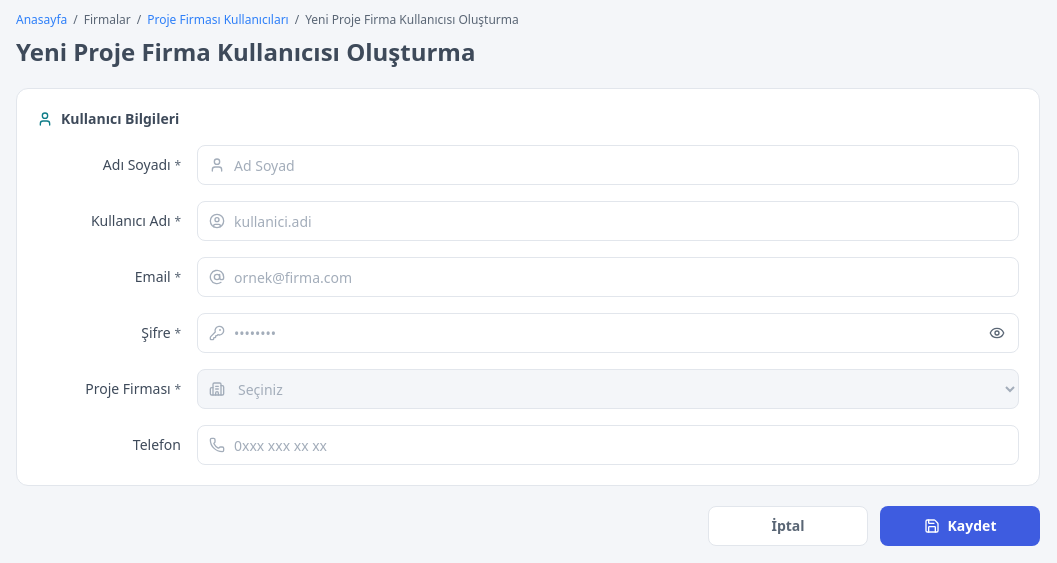
Scenario: zorunlu alan denetimi (KK-14) › telefon alanına harf girilemez, maske kurulur
Type "abc05321180880" into the field labelled "Telefon" at [608, 445], box [197, 425, 1019, 465]
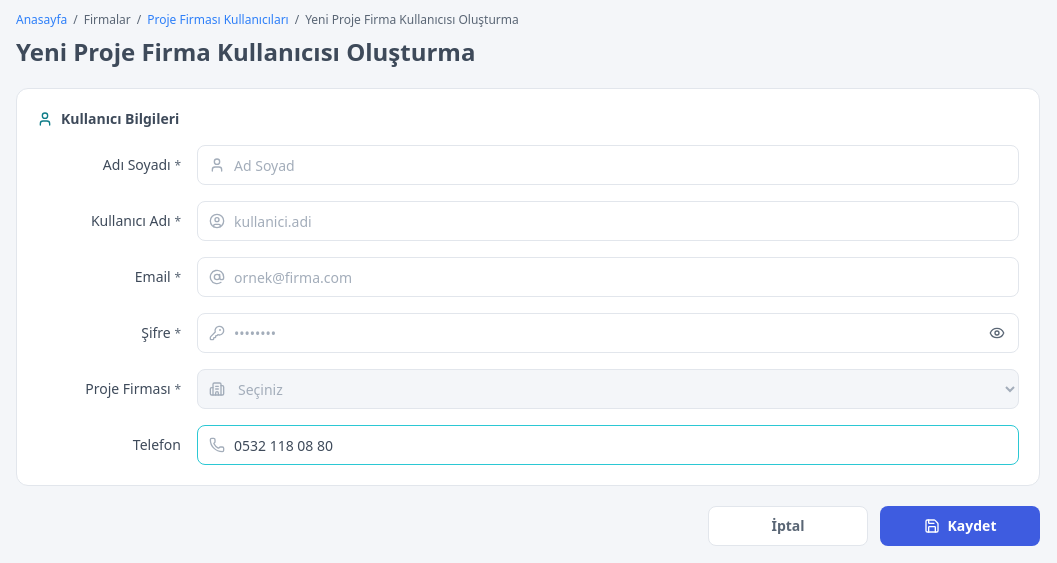
Result: the field labelled "Telefon" holds "0532 118 08 80" at [197, 425, 1019, 465]
